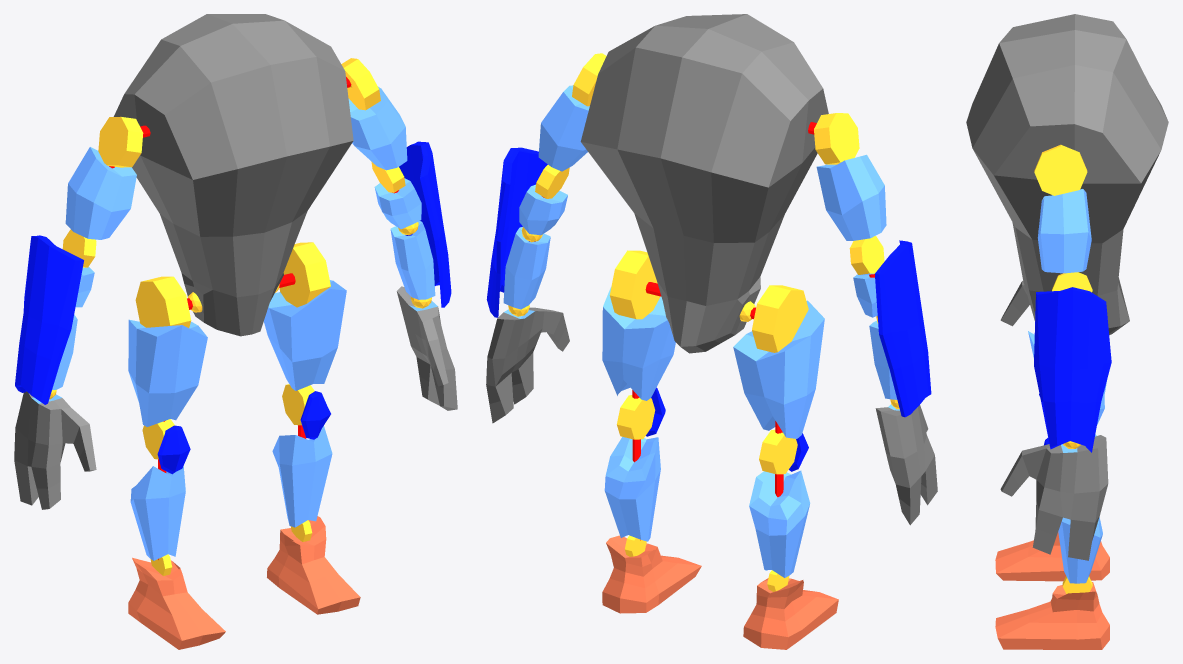
The model's file is low_poly_bot.fbx.
The picture shows the model from 3 angles, left to right: view 1: azimuth 30°, elevation 25°; view 2: azimuth 150°, elevation 25°; view 3: azimuth 270°, elevation 25°; orthographic projection. The views are drawn at different scales.
Visible parts, largest first — view 1: Low Poly Bot; view 2: Low Poly Bot; view 3: Low Poly Bot.
Boxes of the visible parts, x1,y1,x2,y2 form: Low Poly Bot: (14, 14, 457, 649); Low Poly Bot: (486, 14, 937, 649); Low Poly Bot: (966, 14, 1168, 649).
Size of the model in its own units: 153 by 197 by 62.86.
